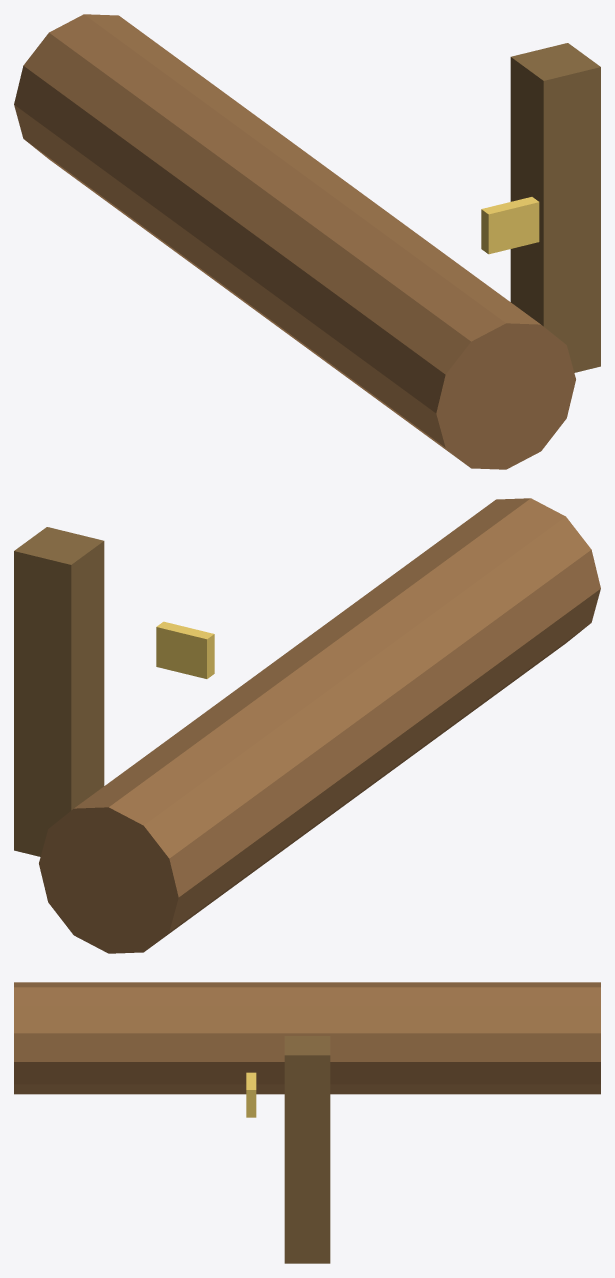
The model's file is wood_barrier.glb.
The picture shows the model from 3 angles, top to bottom: view 1: azimuth 30°, elevation 25°; view 2: azimuth 150°, elevation 25°; view 3: azimuth 270°, elevation 25°; orthographic projection. The views are drawn at different scales.
Visible parts, largest first — view 1: log, support, stripe; view 2: log, support, stripe; view 3: log, support, stripe.
Part boxes in pixels (x1=…): log: x1=14, y1=14, x2=575, y2=469; support: x1=510, y1=43, x2=600, y2=372; stripe: x1=481, y1=197, x2=539, y2=254; log: x1=39, y1=498, x2=600, y2=953; support: x1=14, y1=527, x2=104, y2=856; stripe: x1=156, y1=621, x2=214, y2=678; log: x1=14, y1=982, x2=600, y2=1094; support: x1=284, y1=1036, x2=330, y2=1263; stripe: x1=246, y1=1072, x2=256, y2=1117.
Size of the model in its own units: 1.13 by 0.9 by 2.3.
